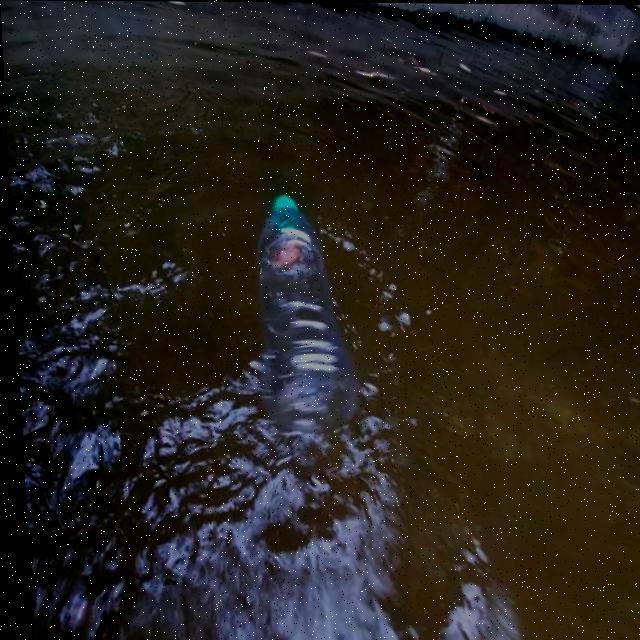waterbottle: (216, 179, 383, 463)
